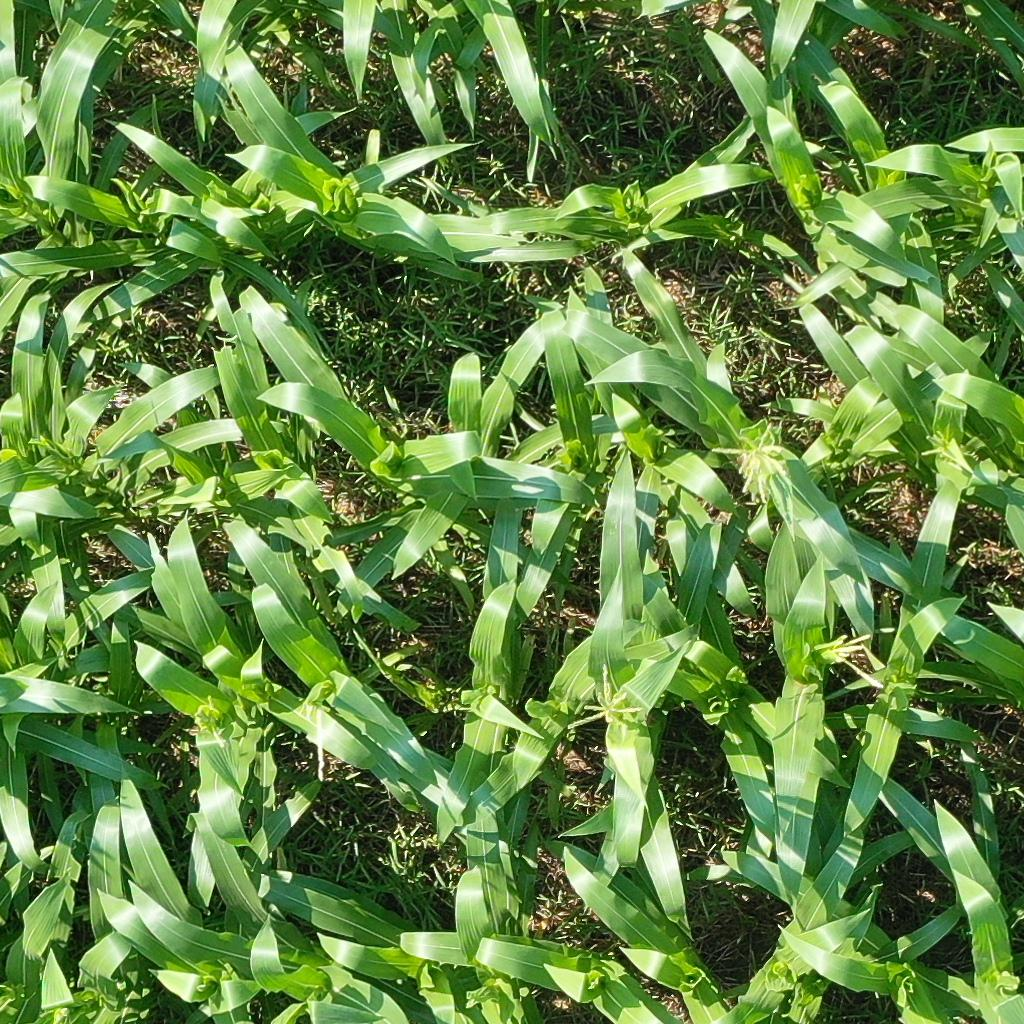Tassel: (704, 419, 799, 512), (565, 663, 644, 730), (825, 631, 885, 689), (190, 690, 227, 749), (312, 699, 332, 780), (921, 431, 951, 457), (624, 197, 633, 212)
